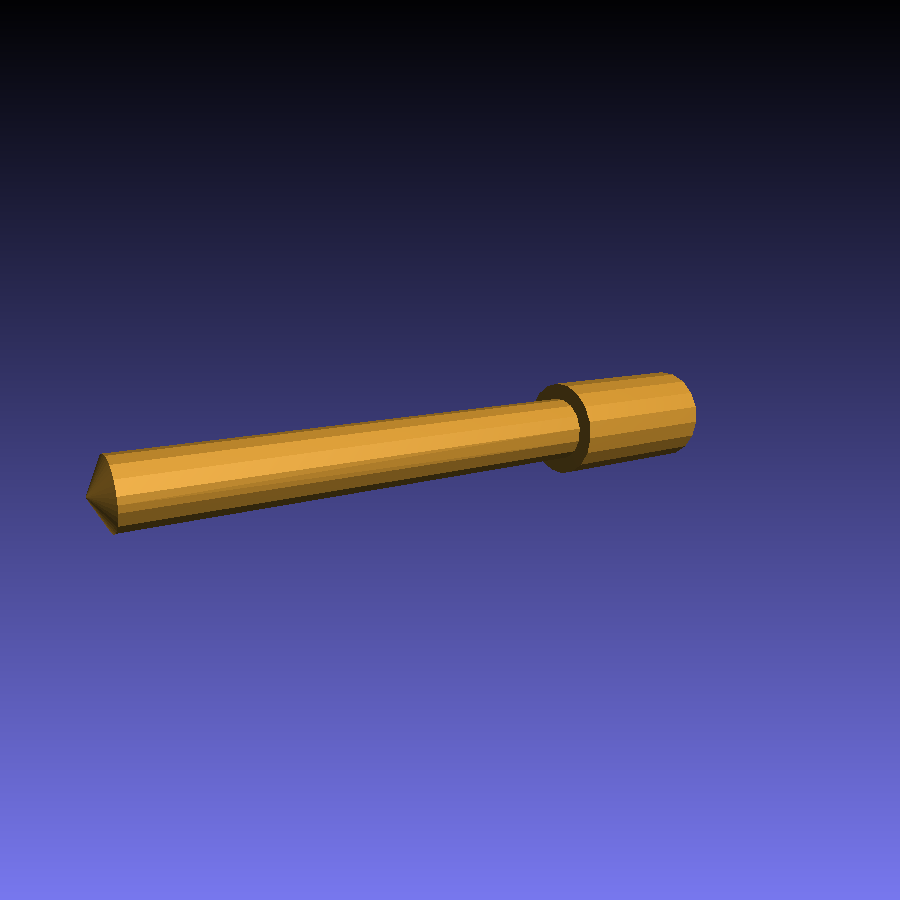cargo_g: (83, 370, 696, 534)
